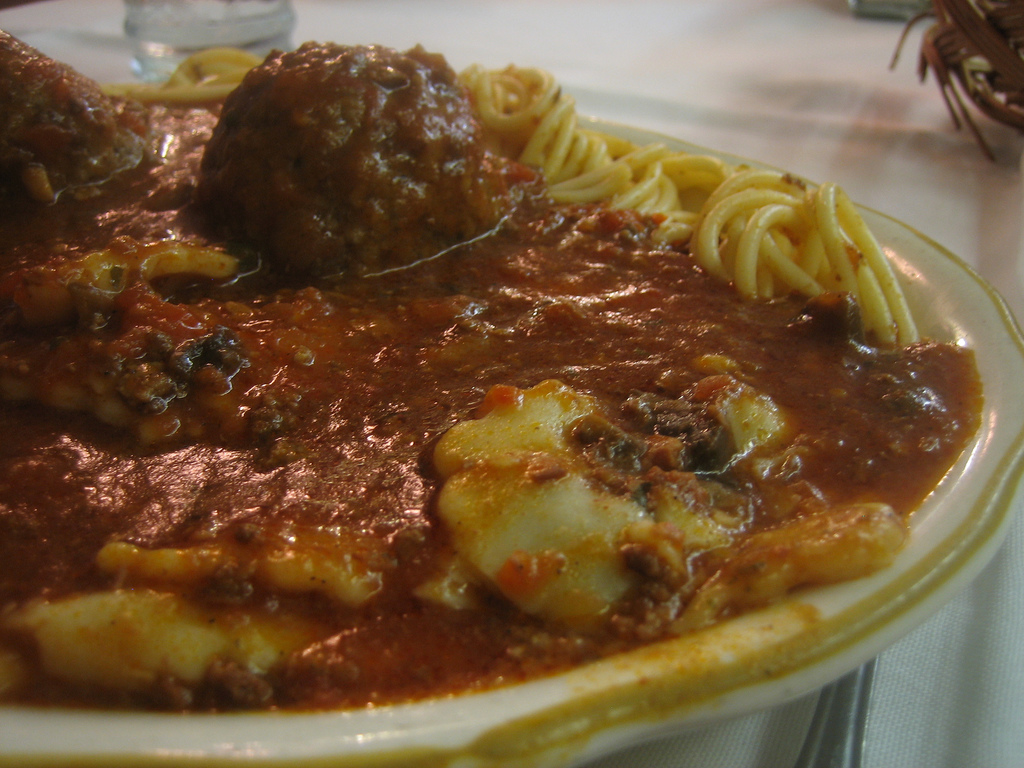meatballs: (229, 30, 496, 276)
